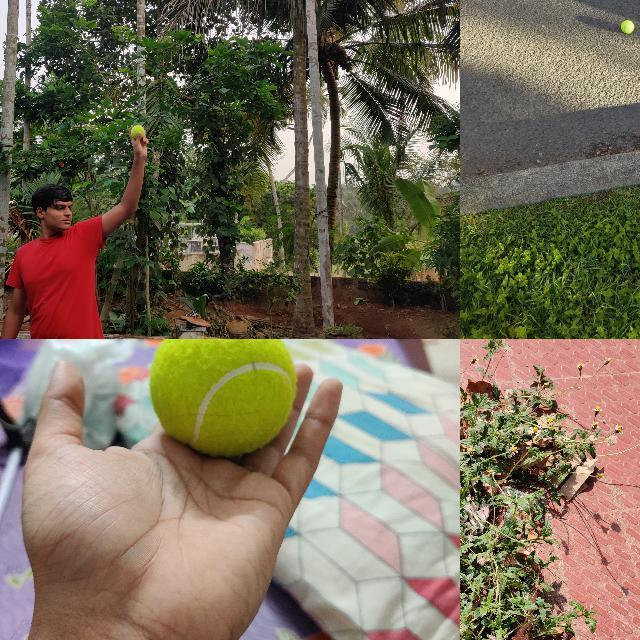tennis-ball: (148, 339, 299, 458), (130, 125, 144, 139), (620, 19, 634, 33)
